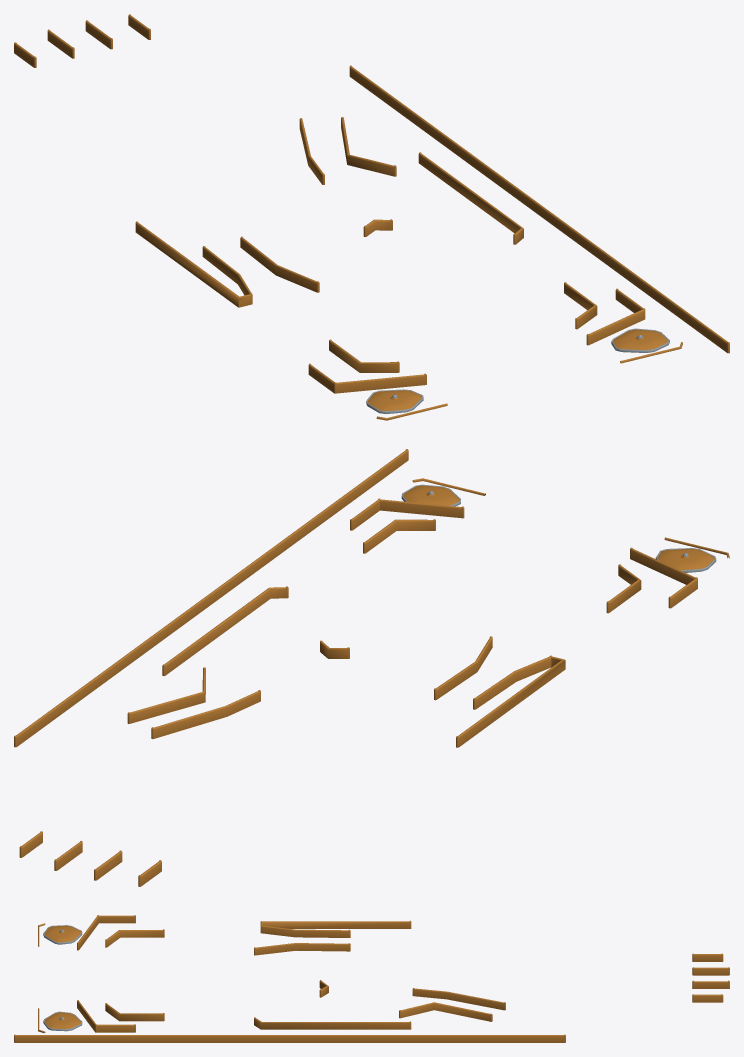
File: meridian-walls.dae
3 renders of one model, top to bottom at view 1: azimuth 30°, elevation 25°; view 2: azimuth 150°, elevation 25°; view 3: azimuth 270°, elevation 25°, orthographic. The views are drawn at different scales.
Parts seen in each view (by area): view 1: accent, metal; view 2: accent; view 3: accent, metal.
Part boxes in pixels (x1,y1,x2,y2): accent: [14, 14, 729, 420]; metal: [366, 328, 669, 413]; accent: [14, 449, 729, 886]; accent: [14, 915, 729, 1042]; metal: [43, 925, 82, 1031].
Bounding box in the file's own units: 0.8434 × 0.0253 × 2.12.
